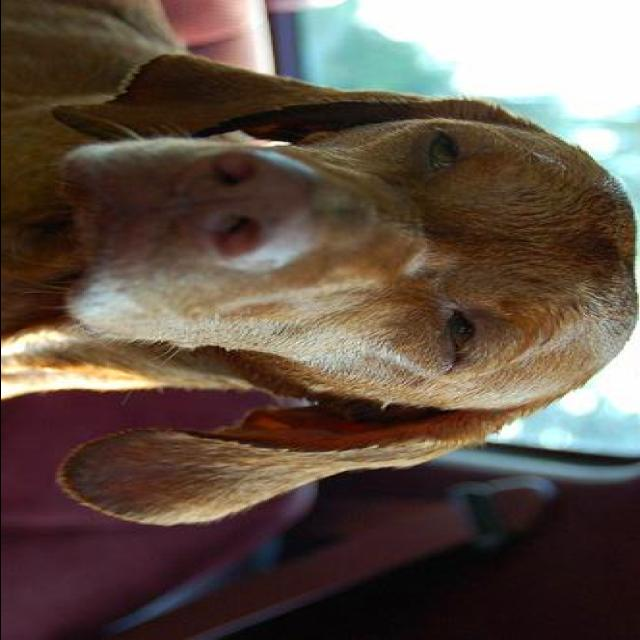vizsla: (2, 0, 640, 526)
